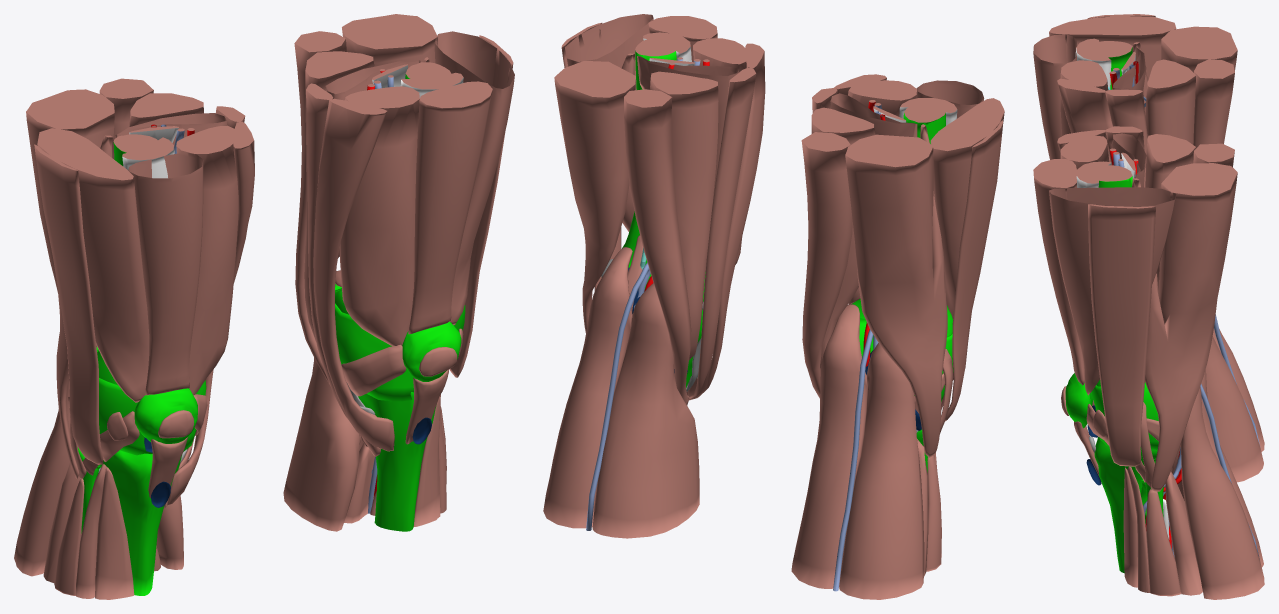
3 renders of one model, left to right at view 1: azimuth 30°, elevation 25°; view 2: azimuth 150°, elevation 25°; view 3: azimuth 270°, elevation 25°, orthographic. The views are drawn at different scales.
Parts seen in each view (by area): view 1: Куб005, Куб005_1, Куб005_4; view 2: Куб005, Куб005_3, Куб005_1; view 3: Куб005, Куб005_1, Куб005_3, Куб005_4, Куб005_2.
Boxes of the visible parts, x1,y1,x2,y2 form: Куб005: (14,14,514,599); Куб005_1: (77,74,465,595); Куб005_4: (122,65,463,178); Куб005: (543,14,1004,599); Куб005_3: (586,59,881,591); Куб005_1: (622,50,953,472); Куб005: (1033,14,1264,599); Куб005_1: (1065,47,1163,573); Куб005_3: (1113,64,1259,558); Куб005_4: (1075,48,1135,187); Куб005_2: (1109,61,1181,548).
Size of the model in its own units: 0.3492 by 0.337 by 0.1754.
